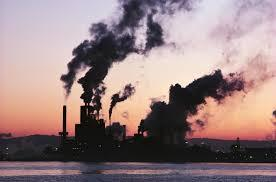smoke: (51, 0, 276, 135)
